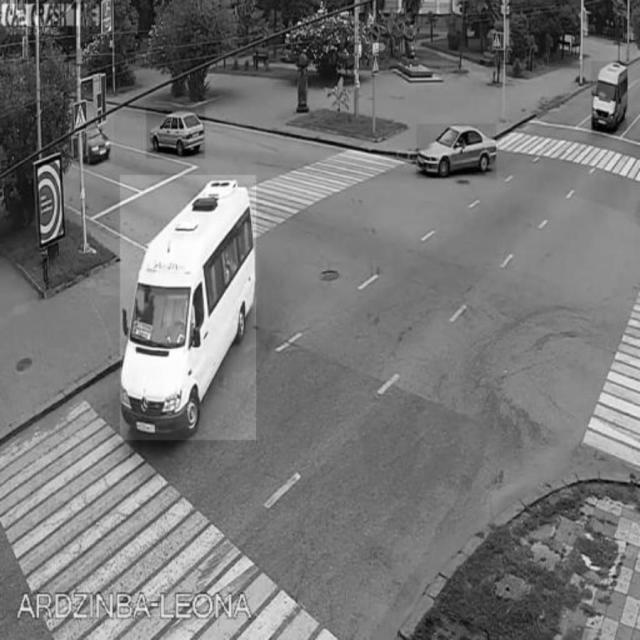vehicle: (121, 175, 257, 439), (417, 124, 497, 179), (146, 108, 204, 159), (592, 61, 628, 131), (74, 113, 114, 170)
